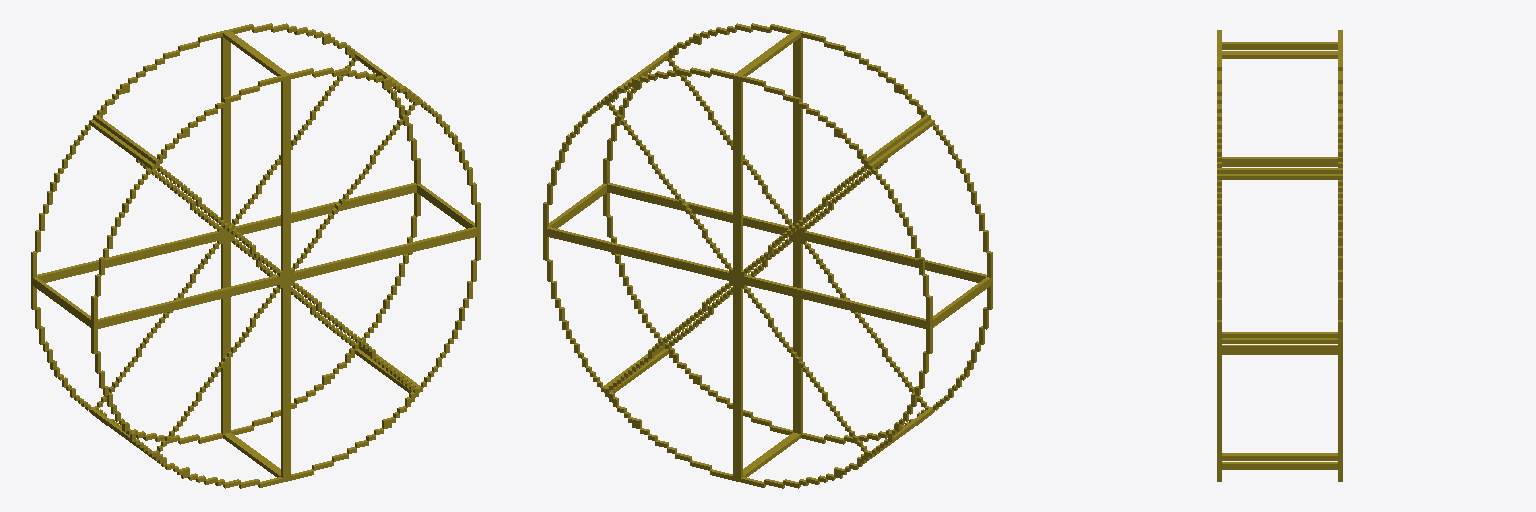
The picture shows the model from 3 angles: view 1: azimuth 30°, elevation 25°; view 2: azimuth 150°, elevation 25°; view 3: azimuth 270°, elevation 25°; orthographic projection.
Parts seen in each view (by area): view 1: object 1; view 2: object 1; view 3: object 1.
Part boxes in pixels (x1,y1,x2,y2): object 1: (31,23,480,488); object 1: (543,23,992,488); object 1: (1217,30,1342,481).
Bounding box in the file's own units: 10 × 10 × 2.8.
Materials: 1 (1 with a texture image).